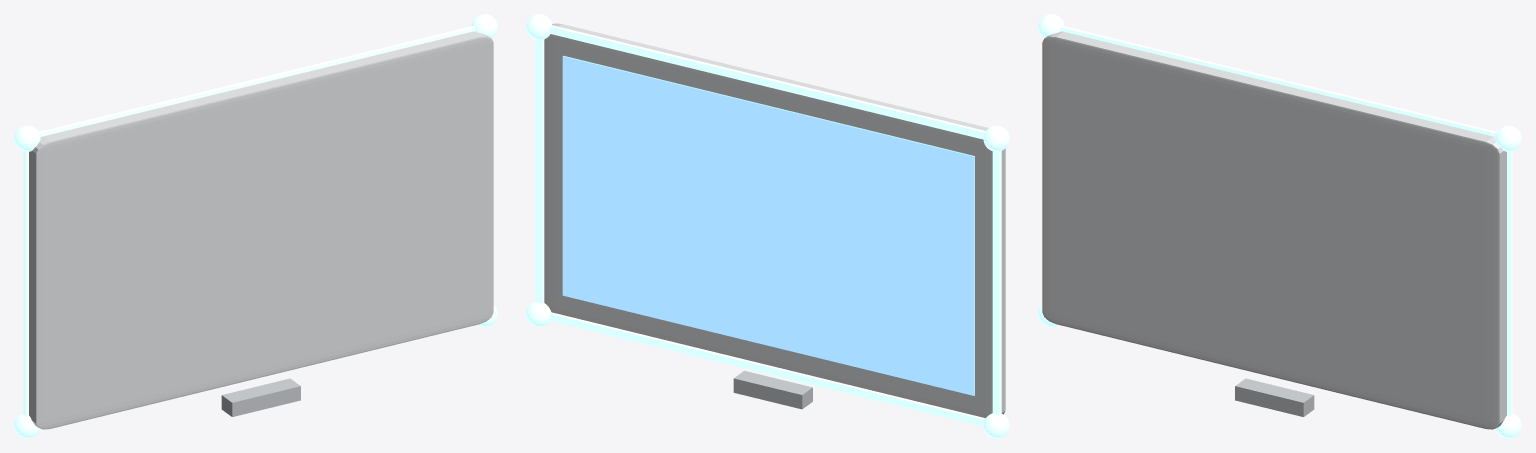
Rendered from citadel_option_tablet.glb.
3 views of the same model, side by side, from view 1: azimuth 30°, elevation 25°; view 2: azimuth 150°, elevation 25°; view 3: azimuth 330°, elevation 25° (orthographic).
Visible parts, largest first — view 1: Tablet_Body, Tablet_EdgeTop, Tablet_Bracket, Tablet_EdgeLeft, Tablet_Corner_-0.5_0.3; view 2: Tablet_Screen, Tablet_Body, Tablet_EdgeTop, Tablet_EdgeBot, Tablet_EdgeLeft, Tablet_EdgeRight, Tablet_Bracket, Tablet_Corner_-0.5_0.3, Tablet_Corner_-0.5_-0.3, Tablet_Corner_0.5_0.3, Tablet_Corner_0.5_-0.3; view 3: Tablet_Body, Tablet_EdgeTop, Tablet_Bracket, Tablet_EdgeRight, Tablet_Corner_0.5_0.3.
Boxes of the visible parts, box(x1,y1,x2,y2) form: Tablet_Body: box(29, 31, 493, 429); Tablet_EdgeTop: box(39, 26, 475, 137); Tablet_Bracket: box(221, 378, 300, 416); Tablet_EdgeLeft: box(23, 151, 28, 416); Tablet_Corner_-0.5_0.3: box(14, 125, 40, 151); Tablet_Screen: box(562, 55, 974, 395); Tablet_Body: box(544, 23, 1005, 418); Tablet_EdgeTop: box(549, 25, 985, 139); Tablet_EdgeBot: box(549, 312, 985, 426); Tablet_EdgeLeft: box(992, 151, 1001, 415); Tablet_EdgeRight: box(535, 39, 544, 303); Tablet_Bracket: box(733, 370, 812, 409); Tablet_Corner_-0.5_0.3: box(983, 125, 1009, 151); Tablet_Corner_-0.5_-0.3: box(983, 413, 1009, 438); Tablet_Corner_0.5_0.3: box(526, 14, 552, 40); Tablet_Corner_0.5_-0.3: box(526, 302, 550, 327); Tablet_Body: box(1042, 31, 1506, 429); Tablet_EdgeTop: box(1060, 26, 1496, 137); Tablet_Bracket: box(1235, 378, 1314, 416); Tablet_EdgeRight: box(1507, 151, 1512, 416); Tablet_Corner_0.5_0.3: box(1495, 125, 1521, 151).
Size of the model in its own units: 1.05 by 0.69 by 0.065.
